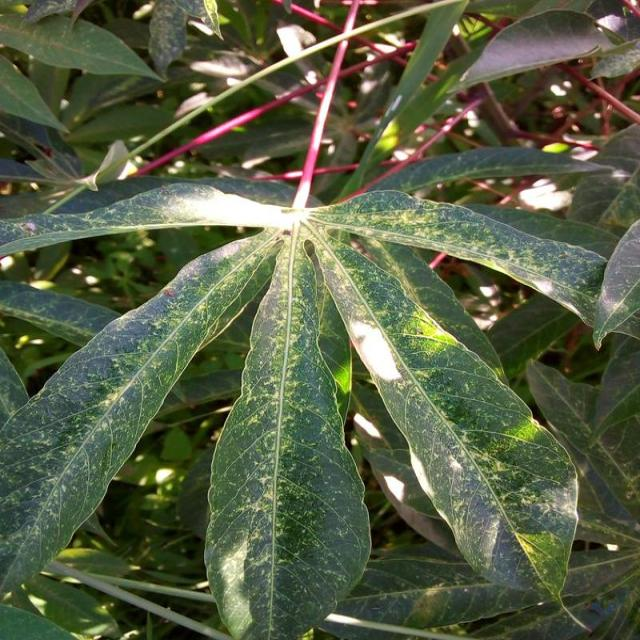Mosaico: (179, 179, 581, 497)
